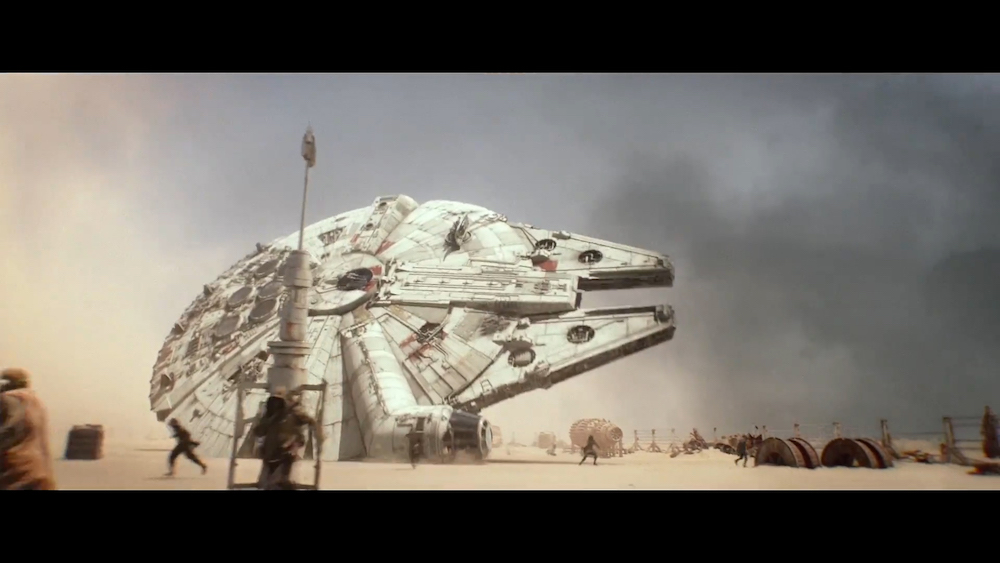Millennium Falcon: (148, 195, 677, 467)
